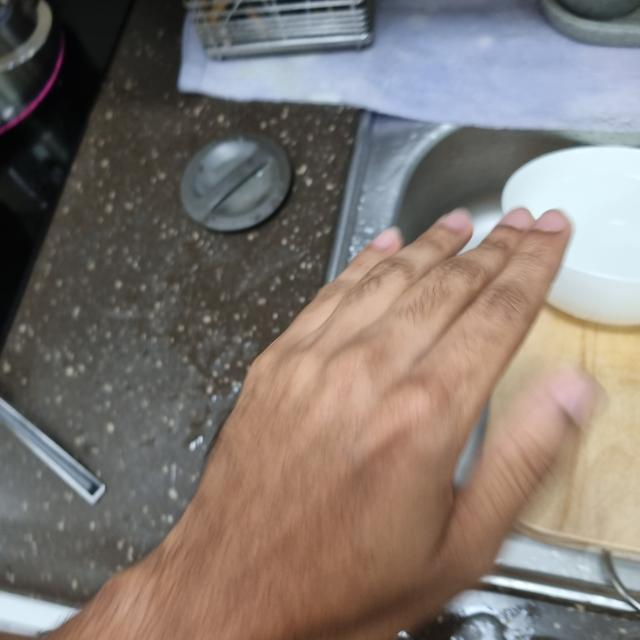Paper: (160, 208, 595, 640)
